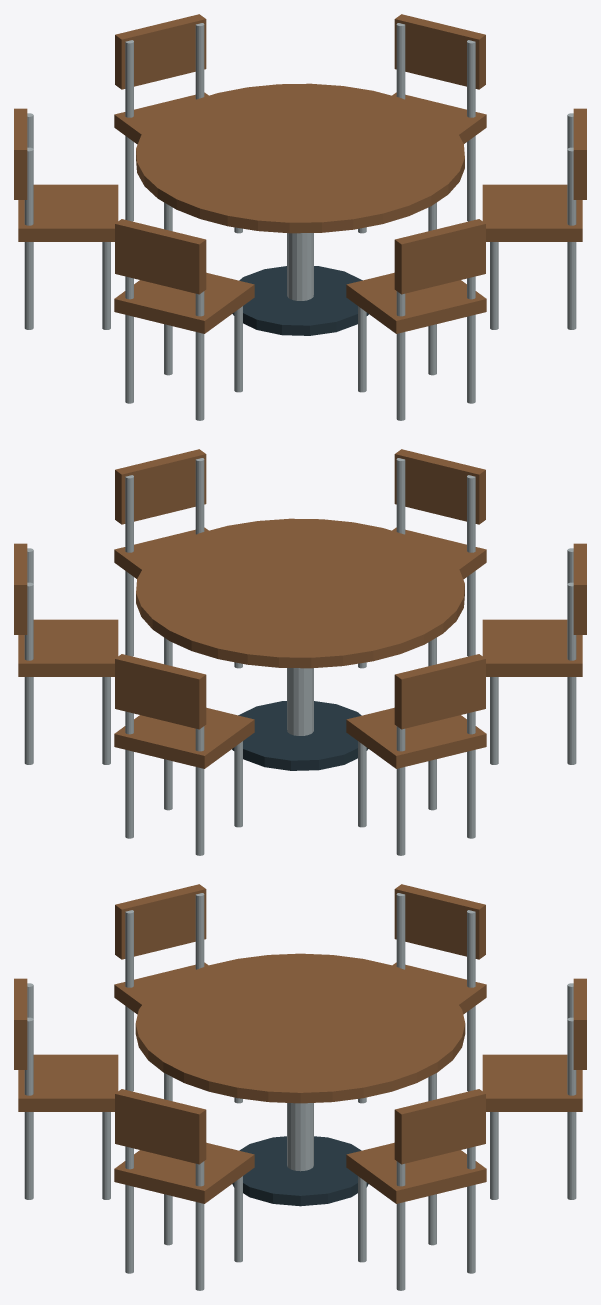
The model's file is scendance-plan-round-table-and-chairs.glb.
3 renders of one model, top to bottom at view 1: azimuth 30°, elevation 25°; view 2: azimuth 150°, elevation 25°; view 3: azimuth 270°, elevation 25°, orthographic.
Size of the model in its own units: 2.35 by 0.864 by 2.47.
